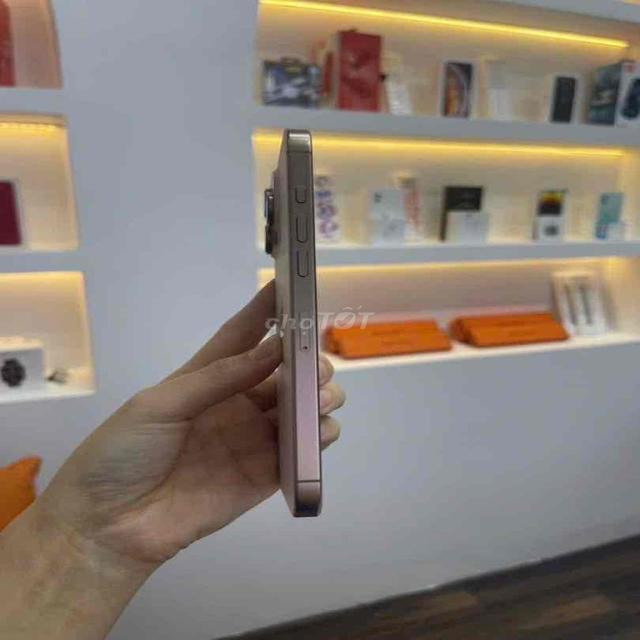gen_16: (264, 129, 322, 517)
